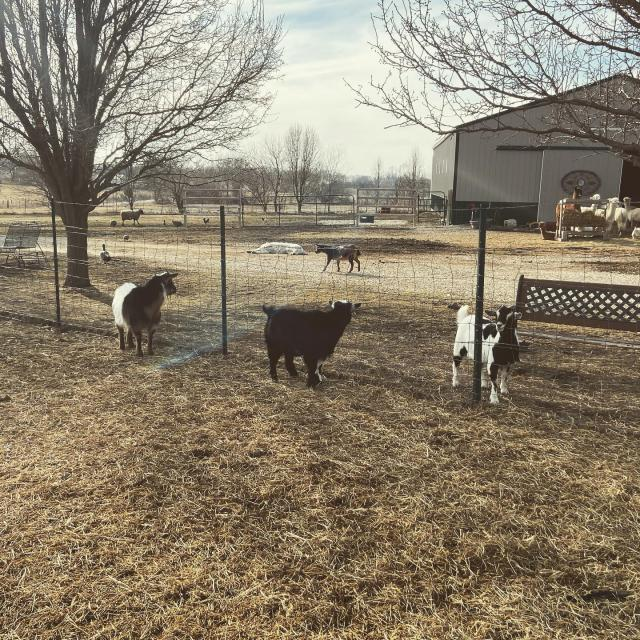goat: (255, 281, 372, 388), (434, 298, 541, 401), (95, 268, 206, 354), (307, 238, 363, 275)
